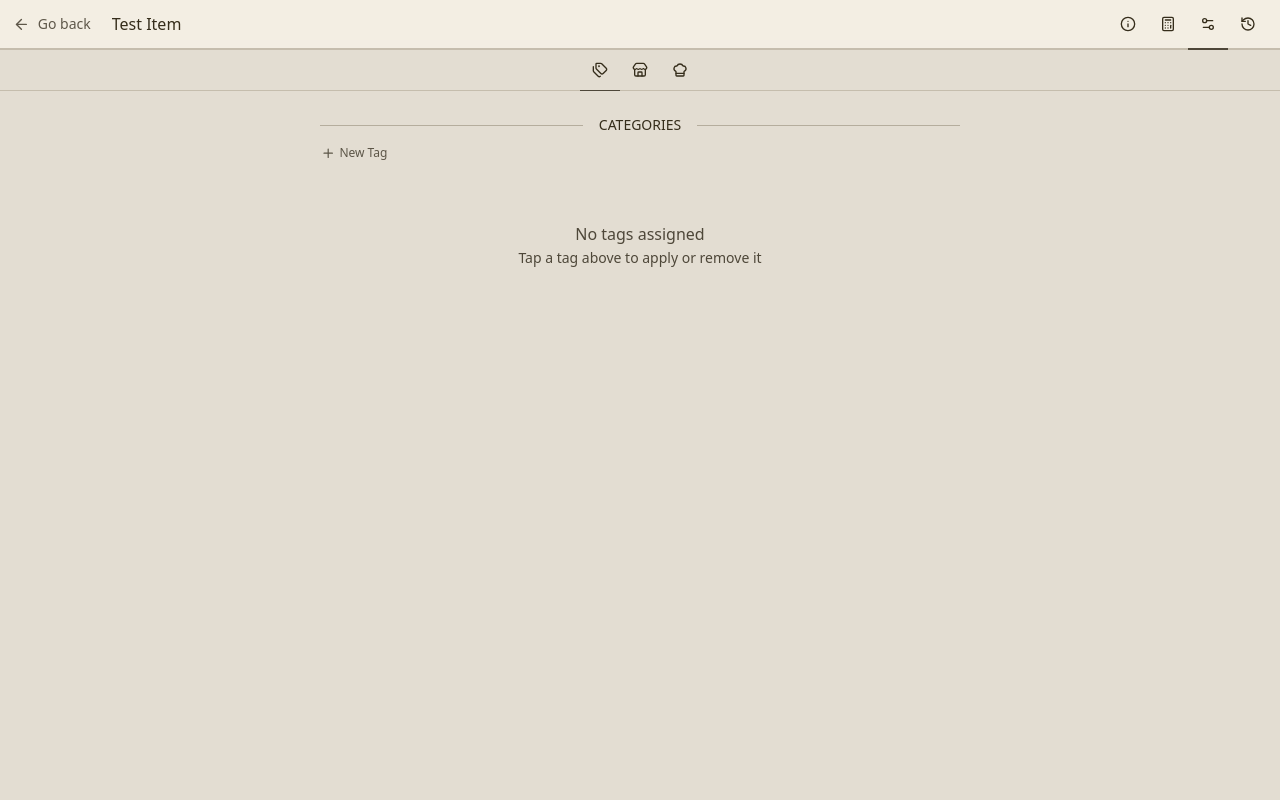
Tags Tab - Add Tag Functionality › user can add a new tag from item tags page
Check: the heading "categories" is shown, box 599,115 -> 681,135
Click the button "New Tag".
click(354, 153)  # box 320,139 -> 388,167
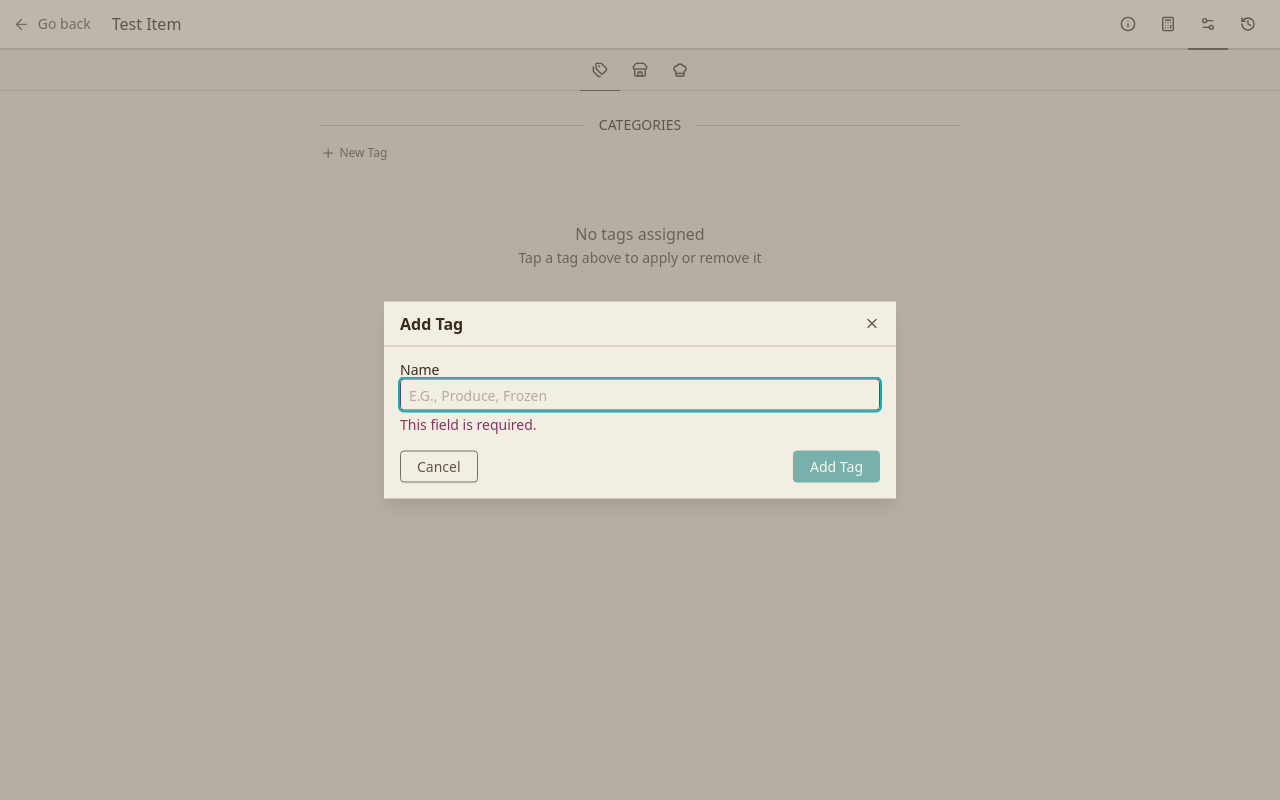
Note: And enters tag name in dialog
Type "dairy" into the field labelled "Name".
click(640, 394); type("dairy")  # box 400,378 -> 880,410
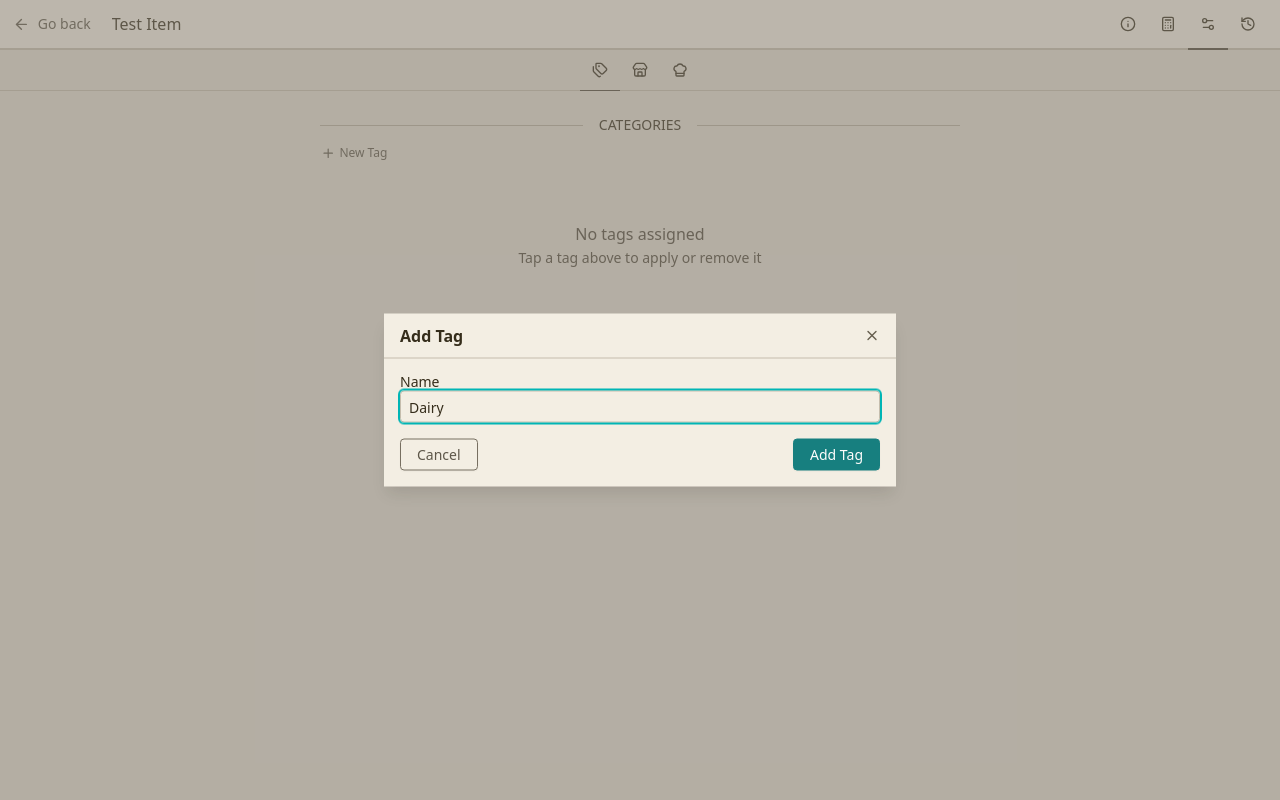
Note: And clicks Add button
Click the button "Add Tag".
click(837, 454)  # box 793,438 -> 880,470
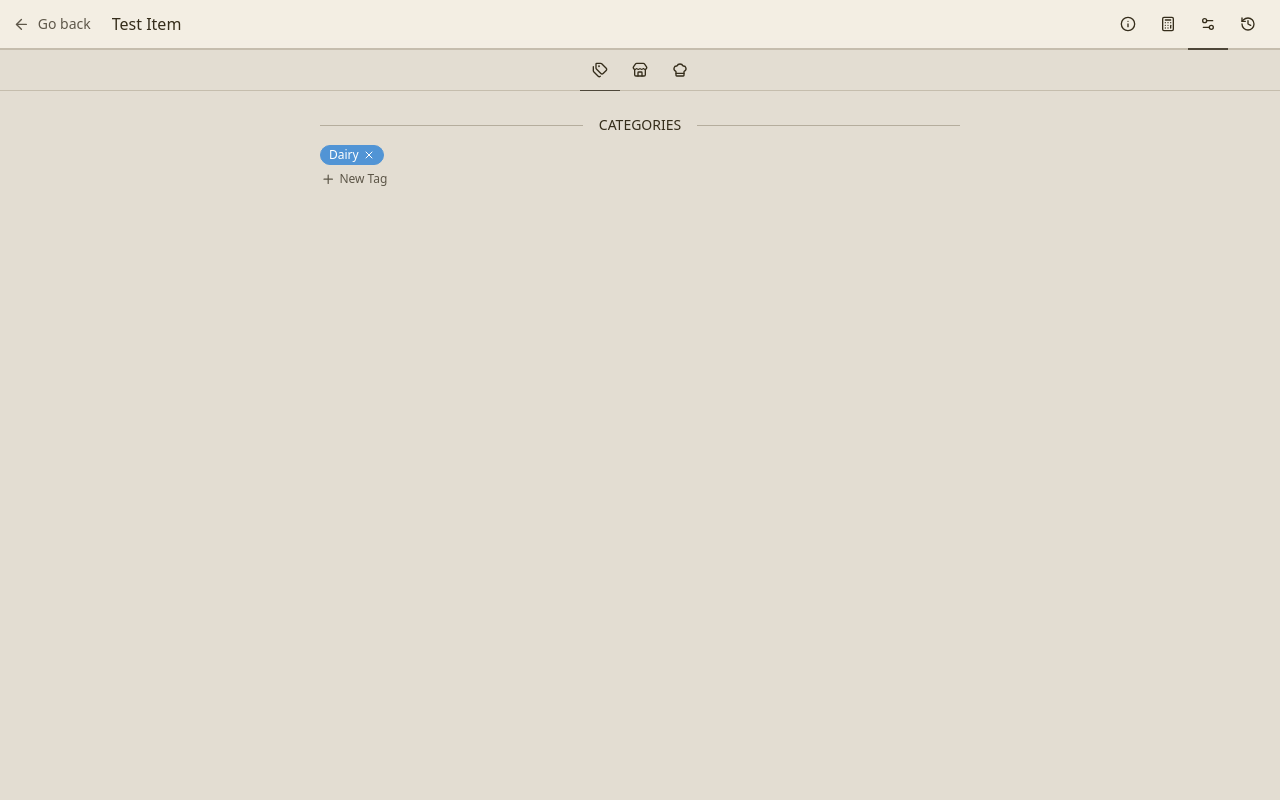
Check: the button "dairy" is shown, box 320,145 -> 384,165
Check: the label labelled "Name" is gone
